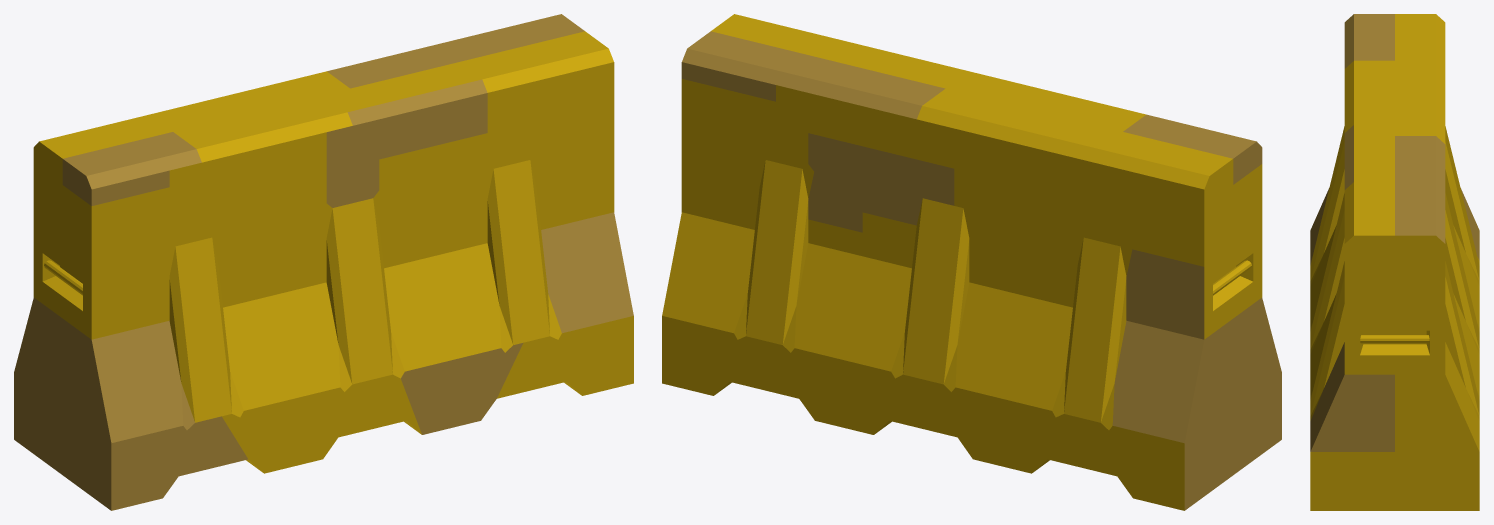
The model's file is PlasticBarrier.glb.
3 views of the same model, side by side, from view 1: azimuth 30°, elevation 25°; view 2: azimuth 150°, elevation 25°; view 3: azimuth 270°, elevation 25° (orthographic). The views are drawn at different scales.
Parts seen in each view (by area): view 1: PlasticBarrier; view 2: PlasticBarrier; view 3: PlasticBarrier.
Boxes of the visible parts, <box> form: PlasticBarrier: <box>14,14,633,510</box>; PlasticBarrier: <box>662,14,1281,510</box>; PlasticBarrier: <box>1310,14,1479,510</box>.
Size of the model in its own units: 1.04 by 0.5995 by 0.3339.
Materials: 1 (1 with a texture image).
